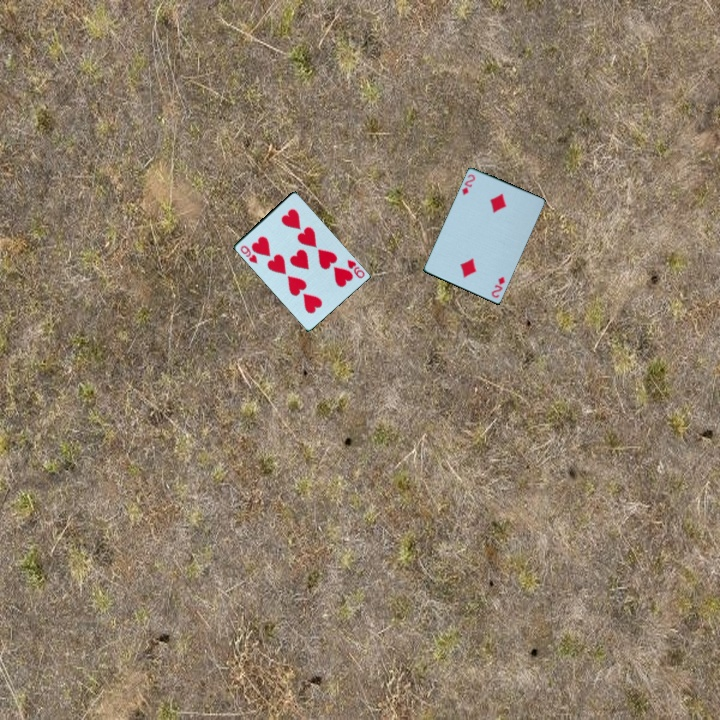2d: (458, 171, 478, 198), (488, 273, 508, 300)
9h: (343, 256, 367, 281), (237, 242, 260, 267)
